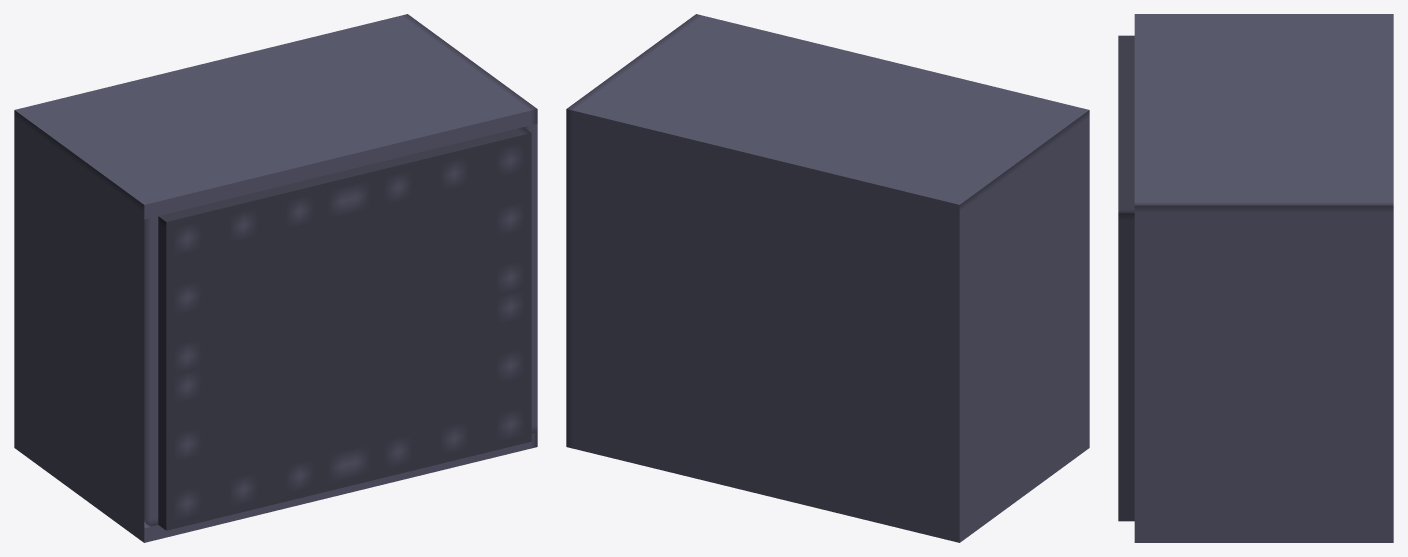
File: szkrzynka_na_kable_close.dae
3 views of the same model, side by side, from view 1: azimuth 30°, elevation 25°; view 2: azimuth 150°, elevation 25°; view 3: azimuth 270°, elevation 25° (orthographic).
Parts seen in each view (by area): view 1: Content; view 2: Content; view 3: Content.
Boxes of the visible parts, x1,y1,x2,y2 form: Content: [14, 14, 537, 542]; Content: [566, 14, 1089, 542]; Content: [1118, 14, 1393, 542].
Bounding box in the file's own units: 28 × 23 × 17.
Materials: 1 (1 with a texture image).
